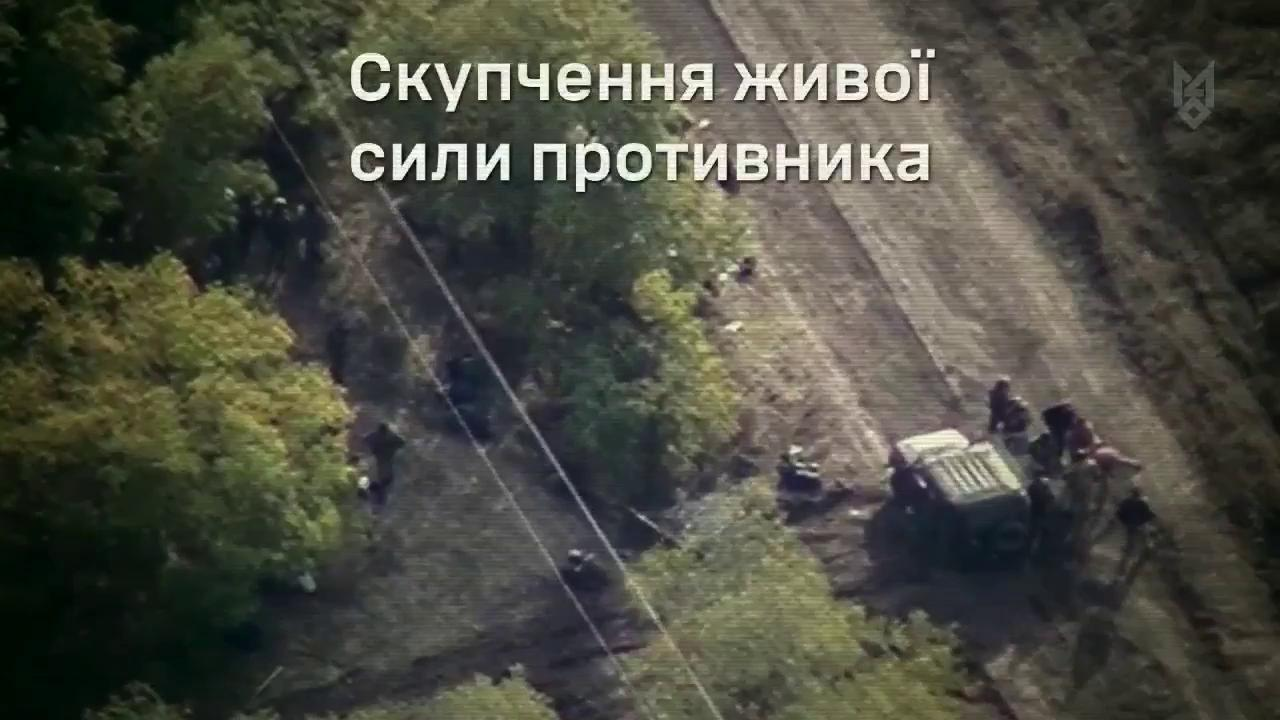tank: (885, 415, 1080, 551)
